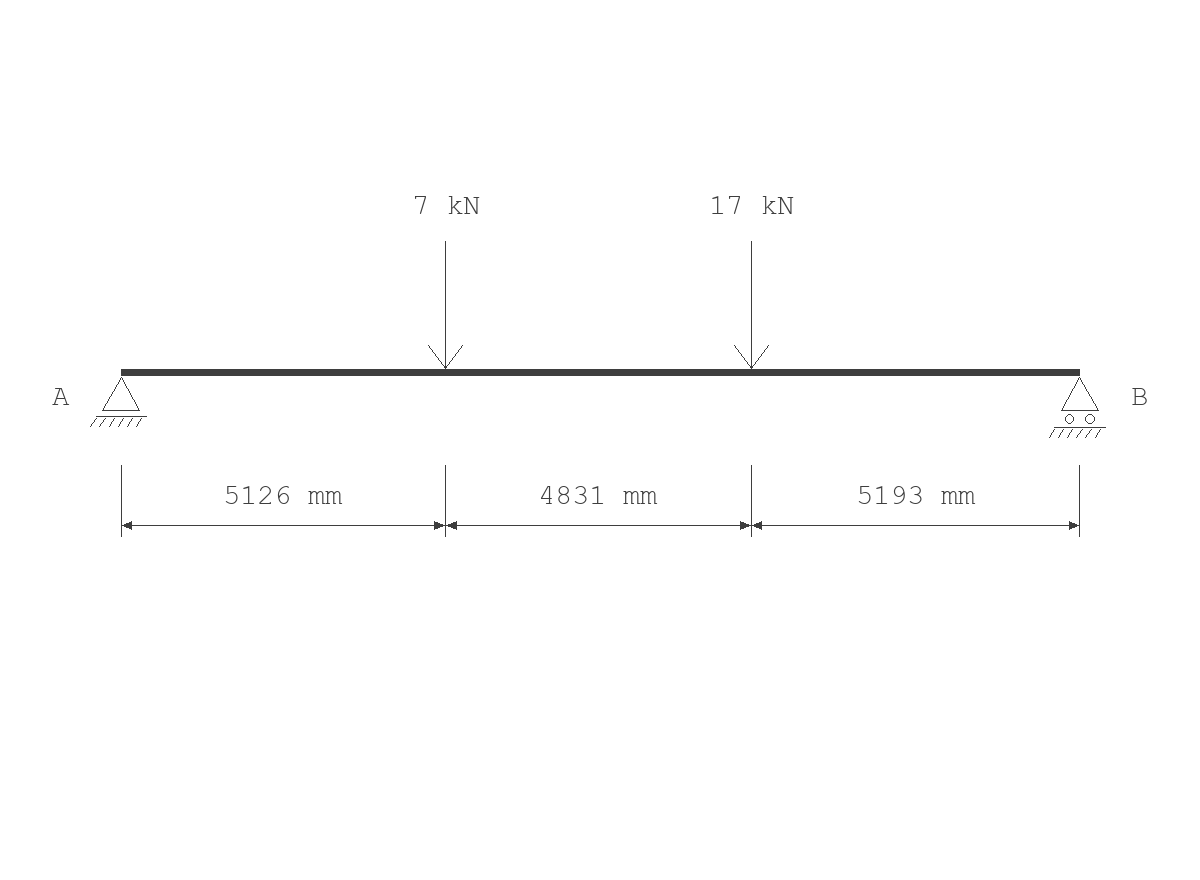pin_support: (90, 377, 147, 427)
point_load: (428, 241, 463, 369), (734, 241, 769, 369)
roller_support: (1049, 377, 1106, 438)
